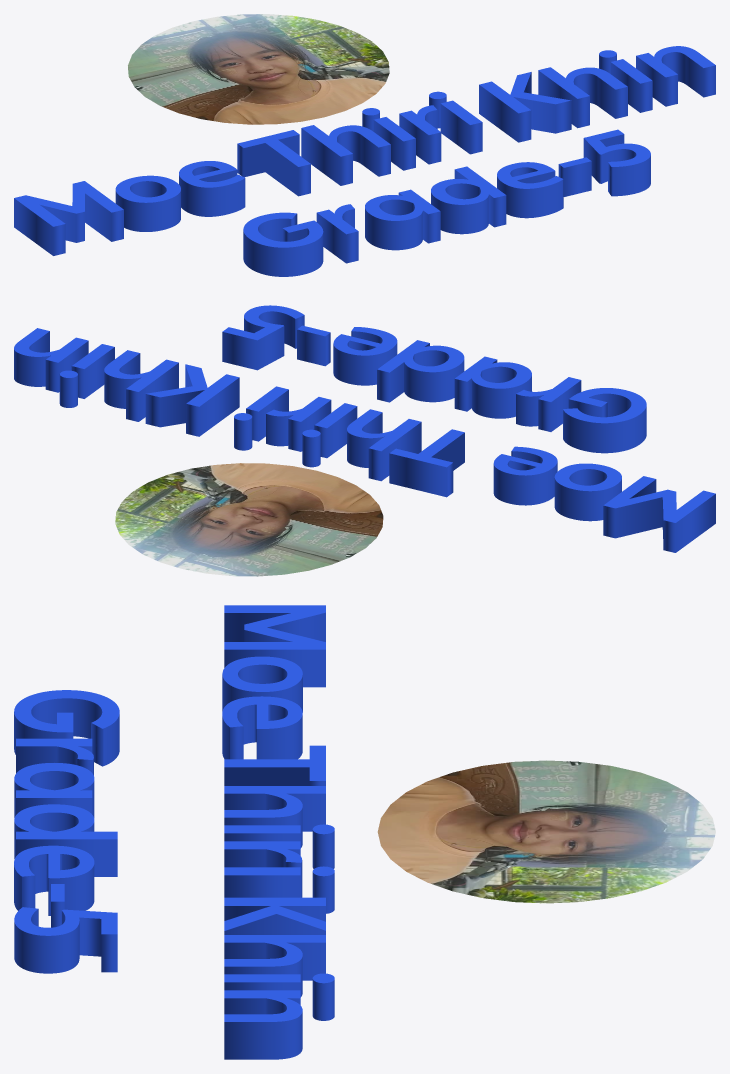
Rendered from asset.glb.
The picture shows the model from 3 angles, top to bottom: view 1: azimuth 30°, elevation 25°; view 2: azimuth 150°, elevation 25°; view 3: azimuth 270°, elevation 25°; orthographic projection. The views are drawn at different scales.
Parts seen in each view (by area): view 1: Text; view 2: Text; view 3: Text.
Boxes of the visible parts, <box> form: Text: <box>14,14,715,276</box>; Text: <box>14,305,715,576</box>; Text: <box>14,605,715,1059</box>.
Bounding box in the file's own units: 4.74 × 0.2 × 3.37.
2 materials, 1 textured.
